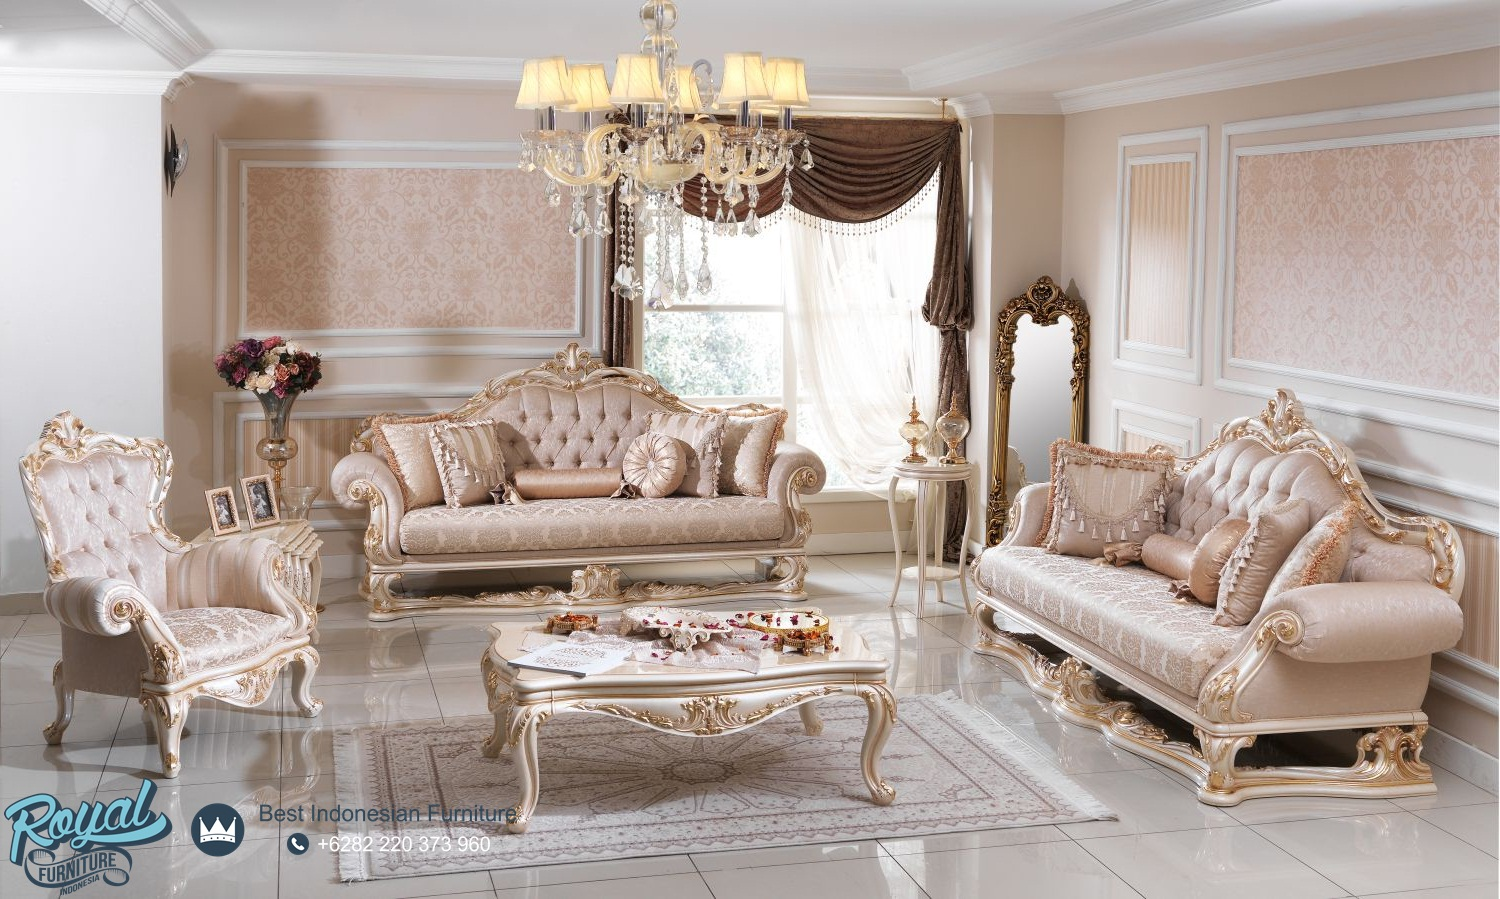kursi: (20, 421, 333, 748)
lampu: (520, 1, 812, 304)
meja: (477, 618, 903, 810), (885, 460, 975, 615)
sova: (991, 449, 1454, 794), (337, 405, 828, 590)
tanaman: (218, 338, 311, 476)
